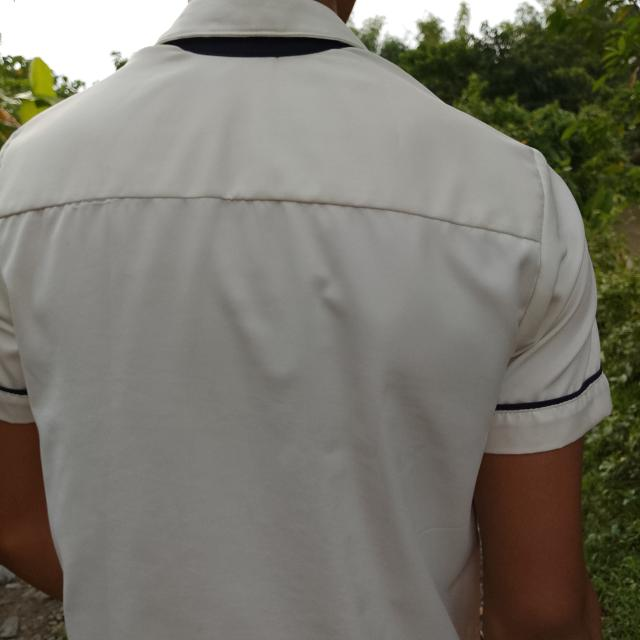education_male_uniform: (0, 8, 609, 492)
